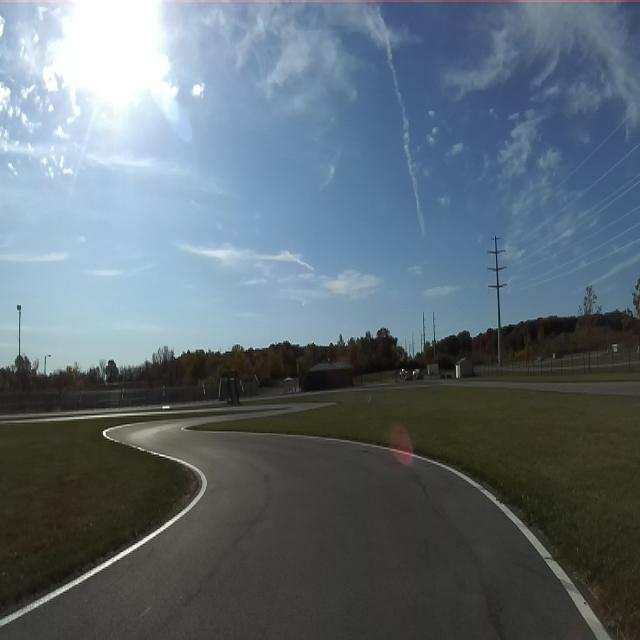white-line: (248, 433, 612, 639), (0, 445, 208, 627), (20, 595, 51, 615), (181, 426, 188, 428)
